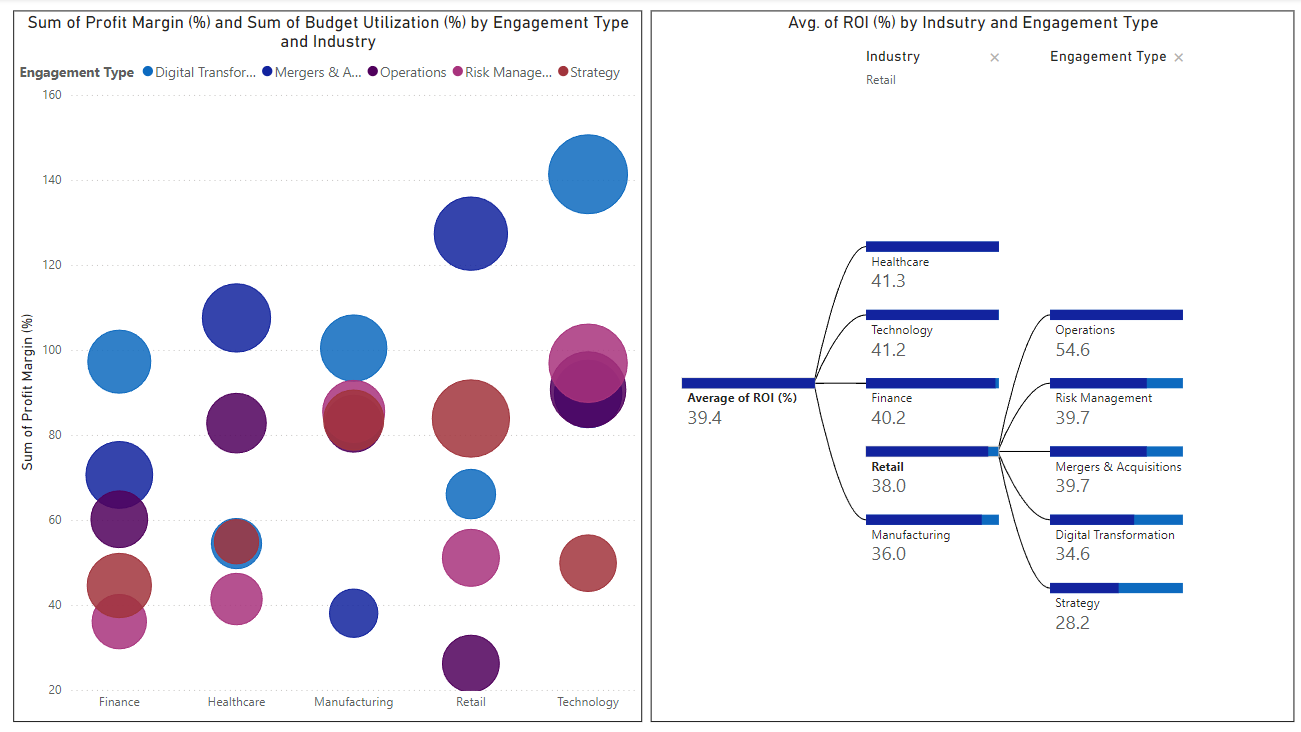

The dashboard page shown, as its layout file describes it:
{"tool":"powerbi","page":{"name":"Page 4","canvas":[1280,720],"ordinal":3},"visuals":[{"type":"decompositionTreeVisual","title":"Avg. of ROI (%) by Indsutry and Engagement Type","fields":{"ExplainBy":["consulting_analysis_extended_dataset.Industry","consulting_analysis_extended_dataset.Engagement Type"],"Analyze":["Avg(consulting_analysis_extended_dataset.ROI (%))"]},"box":[639.5,12.2,629.8,695.8],"z":0},{"type":"scatterChart","fields":{"X":["consulting_analysis_extended_dataset.Industry"],"Series":["consulting_analysis_extended_dataset.Engagement Type"],"Size":["Sum(consulting_analysis_extended_dataset.Budget Utilization (%))"],"Y":["Sum(consulting_analysis_extended_dataset.Profit Margin (%))"]},"box":[15.9,12.2,615.1,695.8],"z":1000}]}

Visuals, with their boxes in screenshot pixels (x1, y1, x2, y2), scaled from the page's 1280x720 canvas onto the 1301x732 screenshot:
"Avg. of ROI (%) by Indsutry and Engagement Type" decompositionTreeVisual: rect(650, 12, 1290, 720)
scatterChart - consulting_analysis_extended_dataset.Industry x consulting_analysis_extended_dataset.Engagement Type: rect(16, 12, 641, 720)
